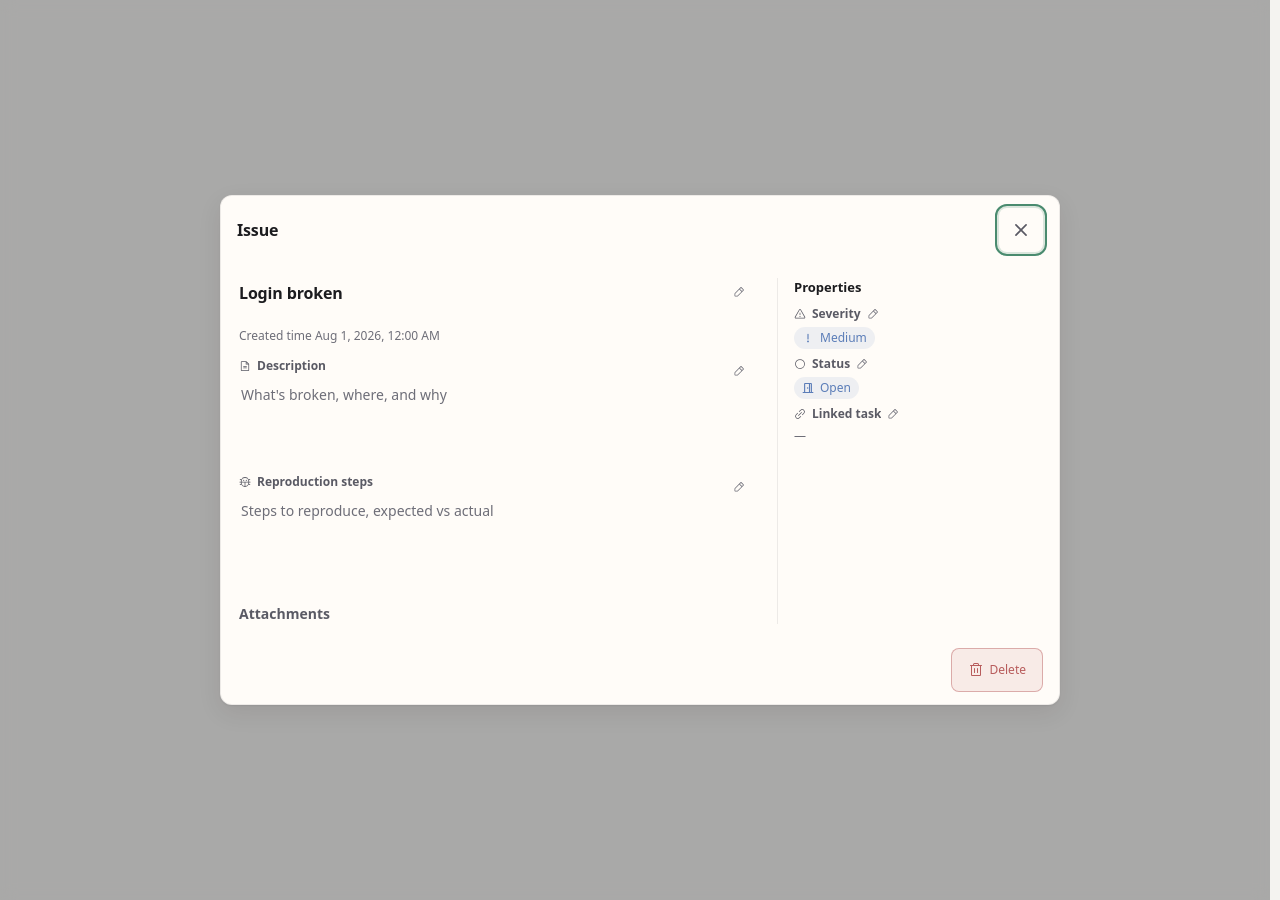
IssueModal linked task select › returns to view after picking a severity
What coordinates should you click on to do the following:
click the button "Medium"
I would click on:
 (918, 338)
Its box is [794,326,1041,348].
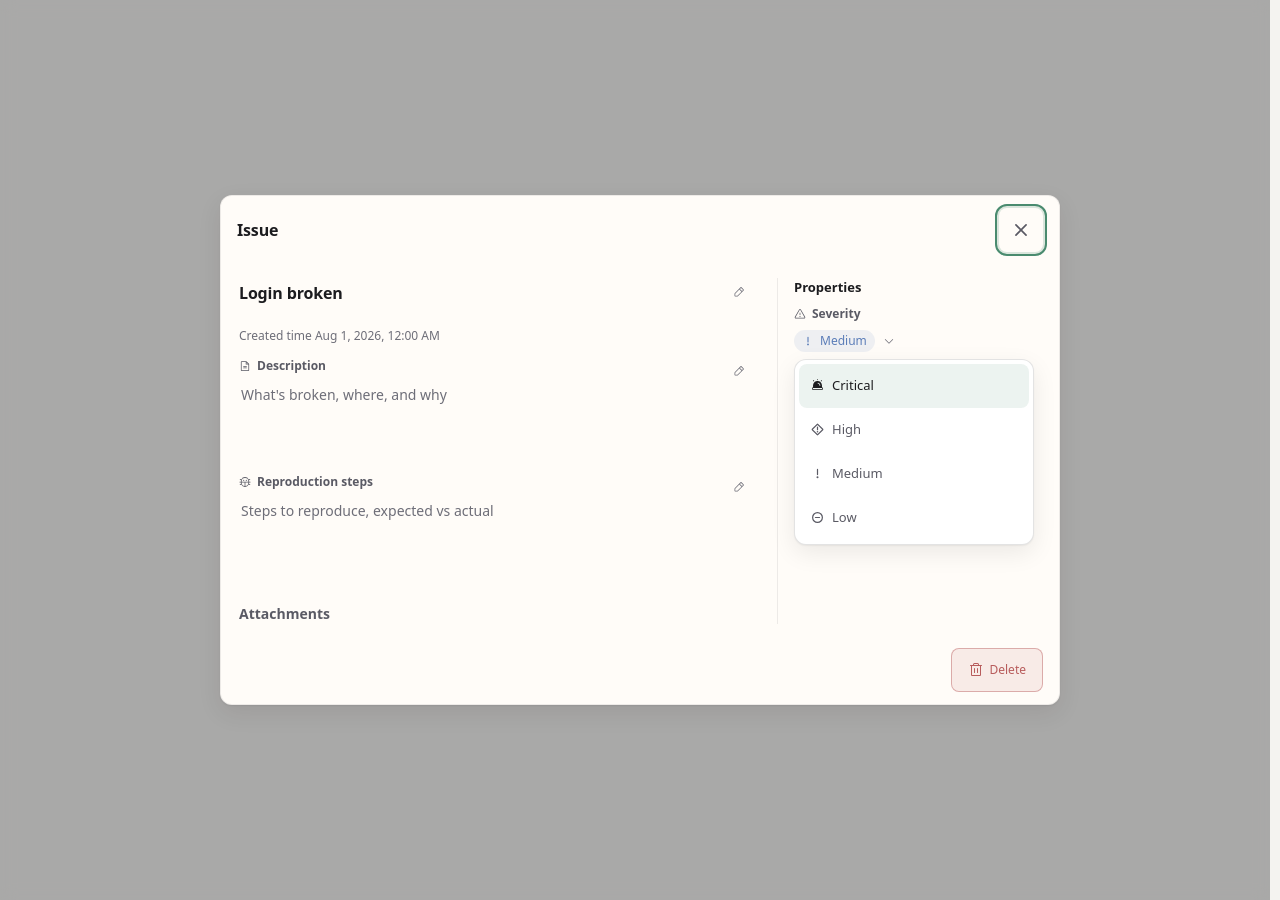
What coordinates should you click on to do the following:
click the option "High"
I would click on:
 (914, 430)
Its box is [799,408,1029,452].
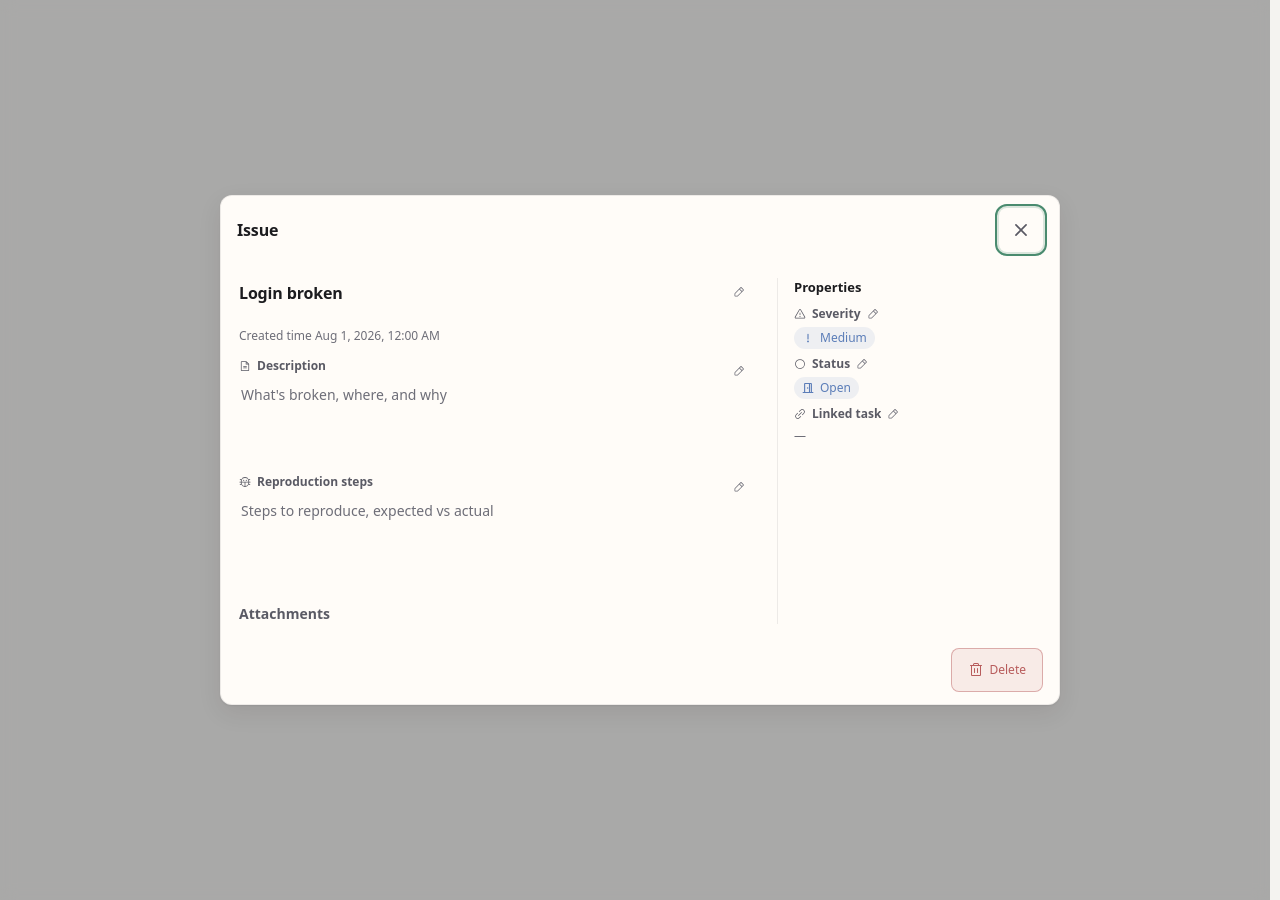
Expected: the button "Medium" is shown, [794,326,1041,348]
Now the button with id "issue-severity" is gone
